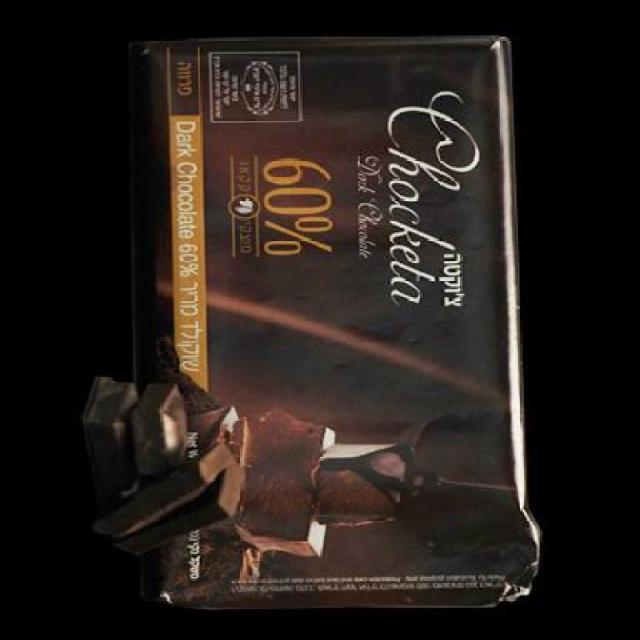Chocolate bar: (127, 38, 542, 612)
